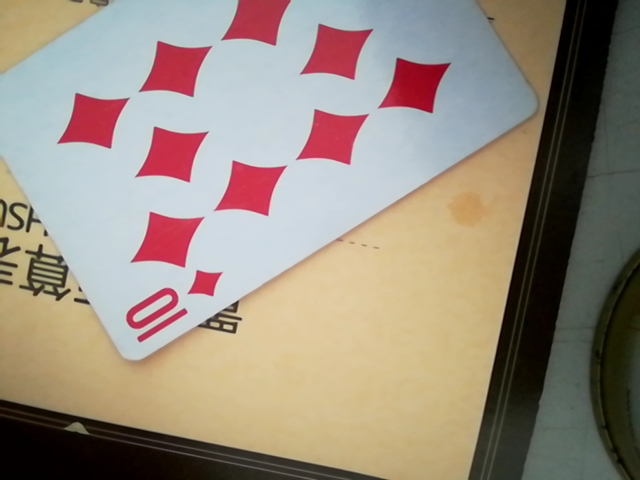fk 10: (0, 2, 548, 373)
